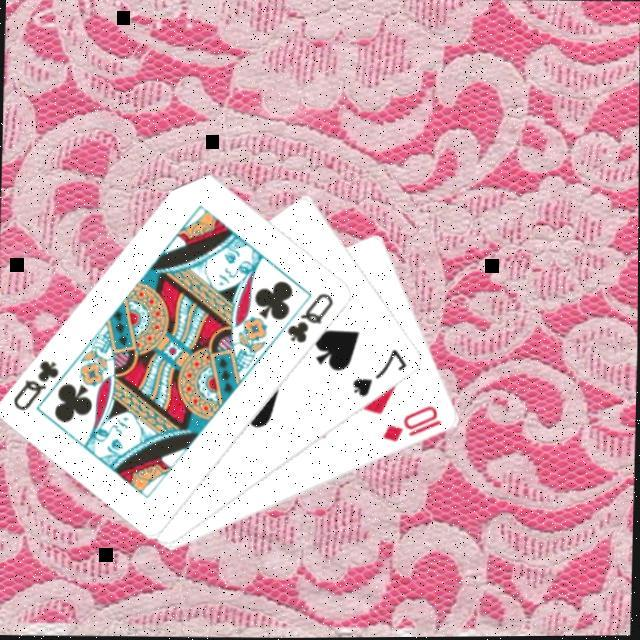10D: (381, 400, 446, 445)
7S: (350, 344, 413, 399)
QC: (285, 287, 338, 346), (12, 355, 65, 413)
